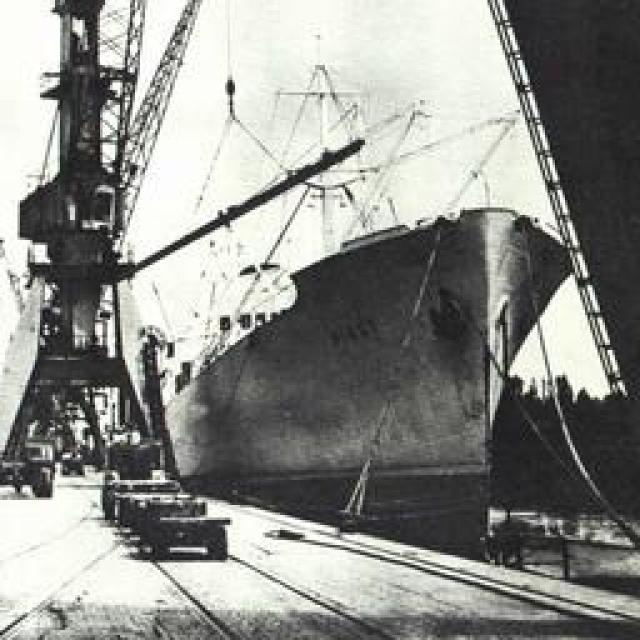Ship: (158, 45, 586, 556)
